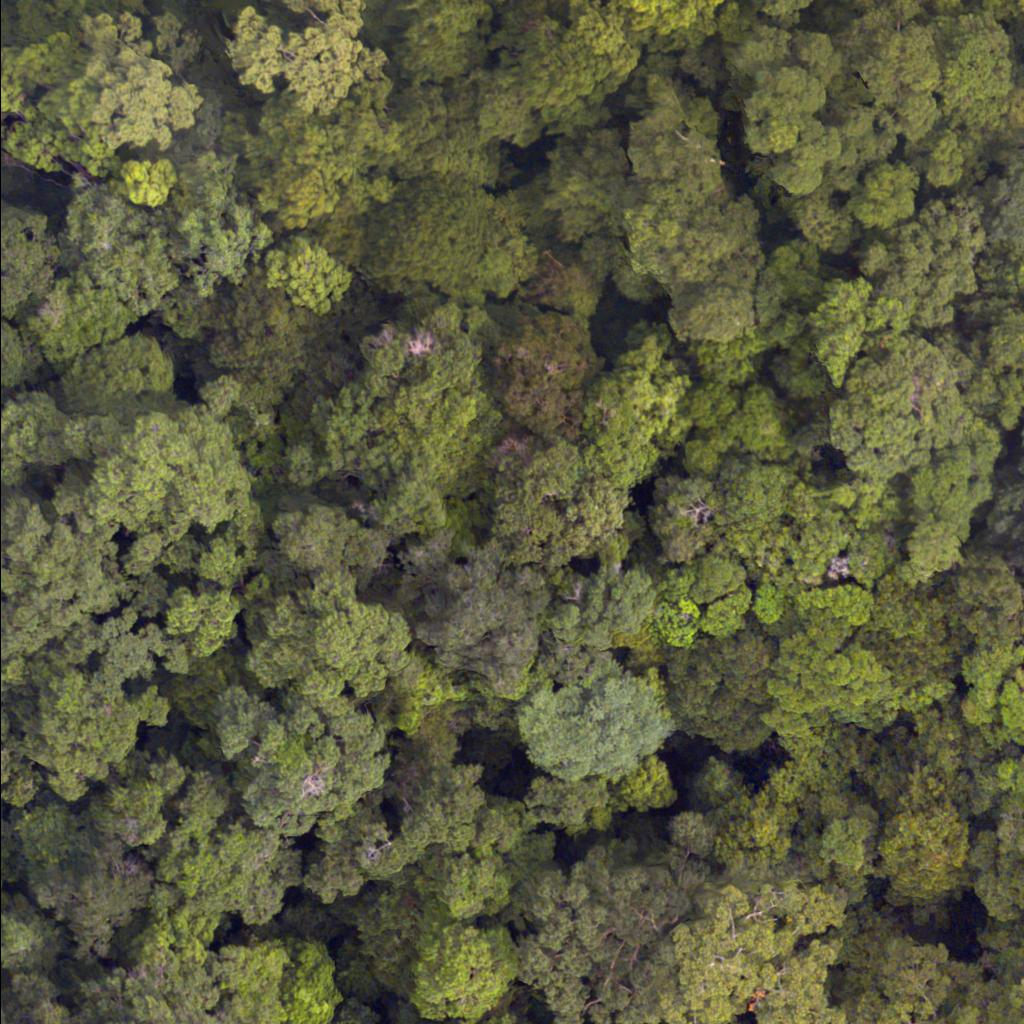crown: (303, 305, 529, 540), (621, 67, 795, 341), (0, 19, 196, 173), (67, 425, 263, 575), (211, 690, 380, 852), (402, 529, 563, 692), (340, 187, 546, 302), (234, 82, 401, 220), (243, 595, 411, 727), (473, 428, 622, 570), (832, 343, 964, 481), (843, 193, 976, 324), (765, 628, 895, 755), (200, 267, 323, 390), (664, 638, 776, 763), (503, 310, 600, 447), (394, 80, 495, 195), (64, 957, 225, 1023), (558, 562, 661, 660), (264, 499, 390, 576), (870, 802, 966, 902), (65, 338, 180, 421), (26, 285, 128, 376), (605, 0, 727, 56), (0, 204, 55, 327), (0, 320, 29, 400), (51, 0, 163, 12), (0, 999, 38, 1023), (1019, 427, 1023, 486)
